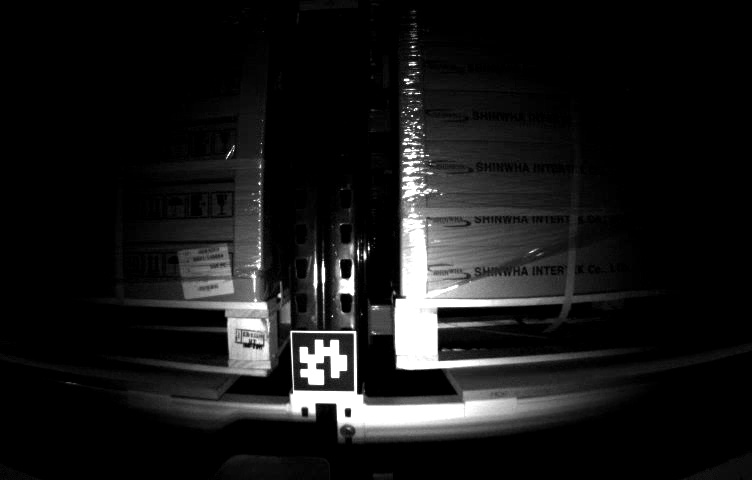True Barcode: (177, 246, 237, 301)
